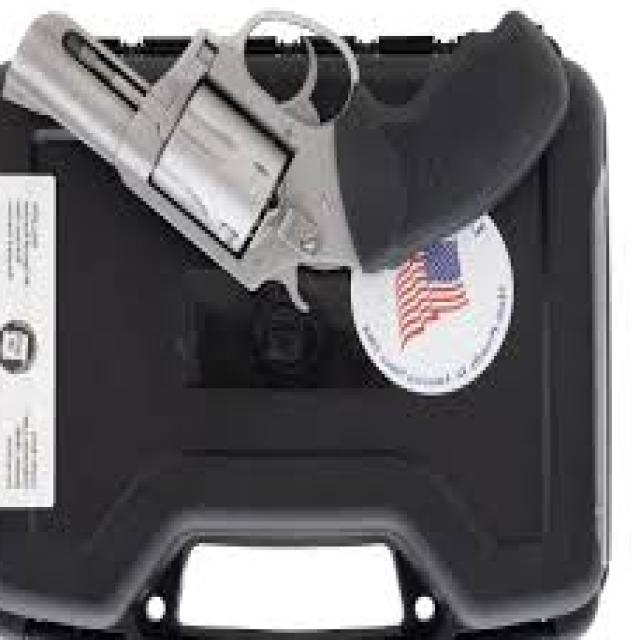Gun: (1, 0, 558, 295)
